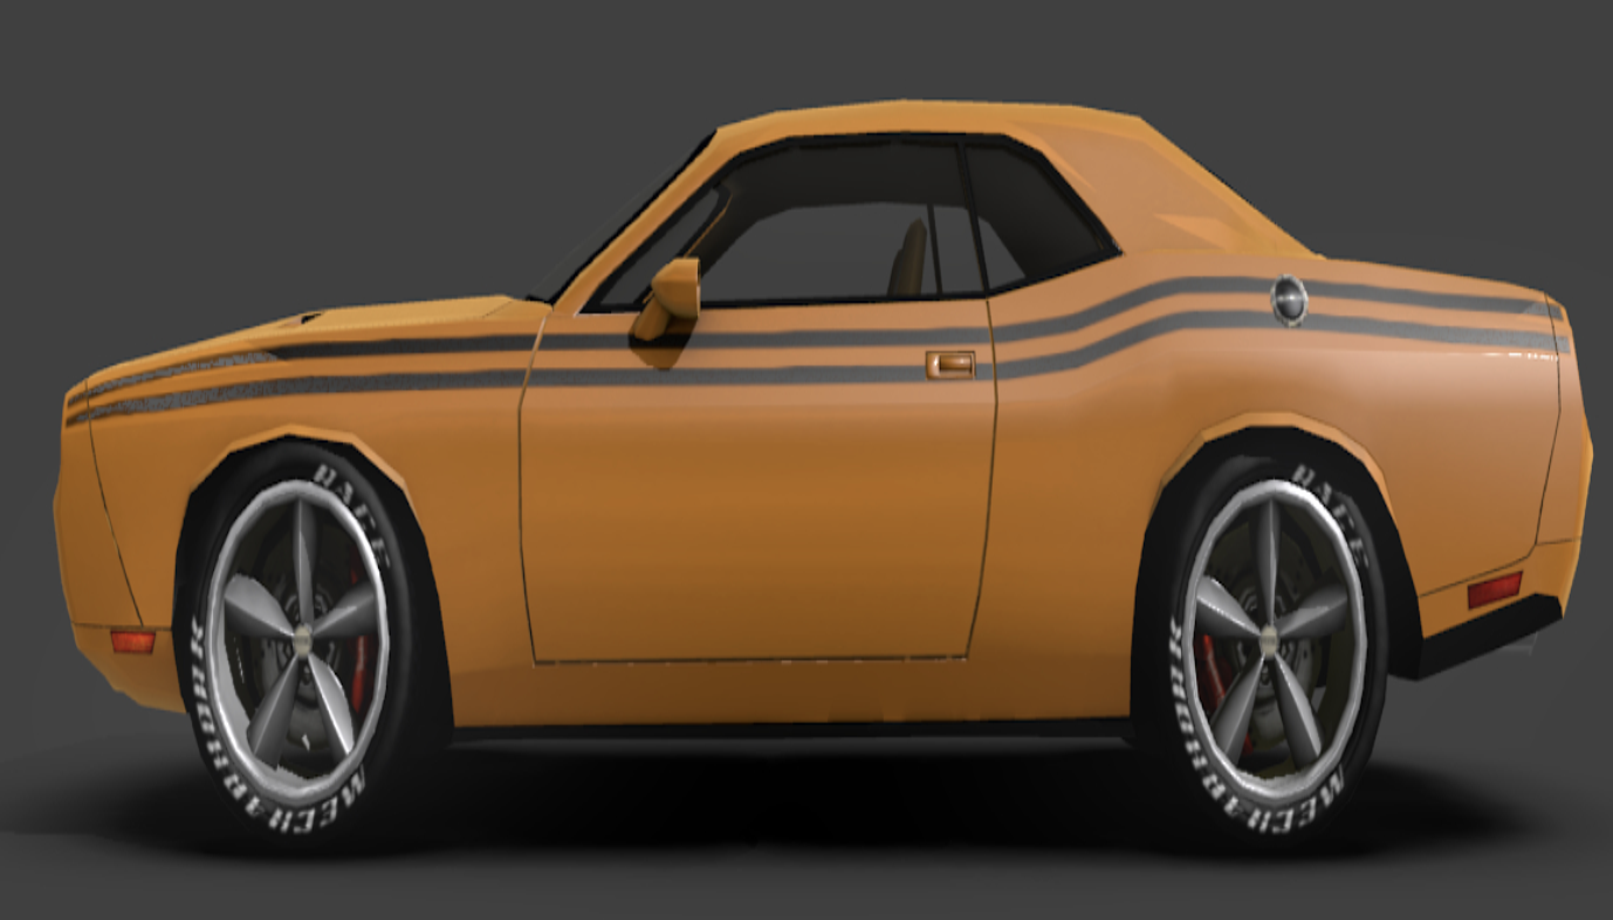hatch: (1268, 268, 1314, 335)
